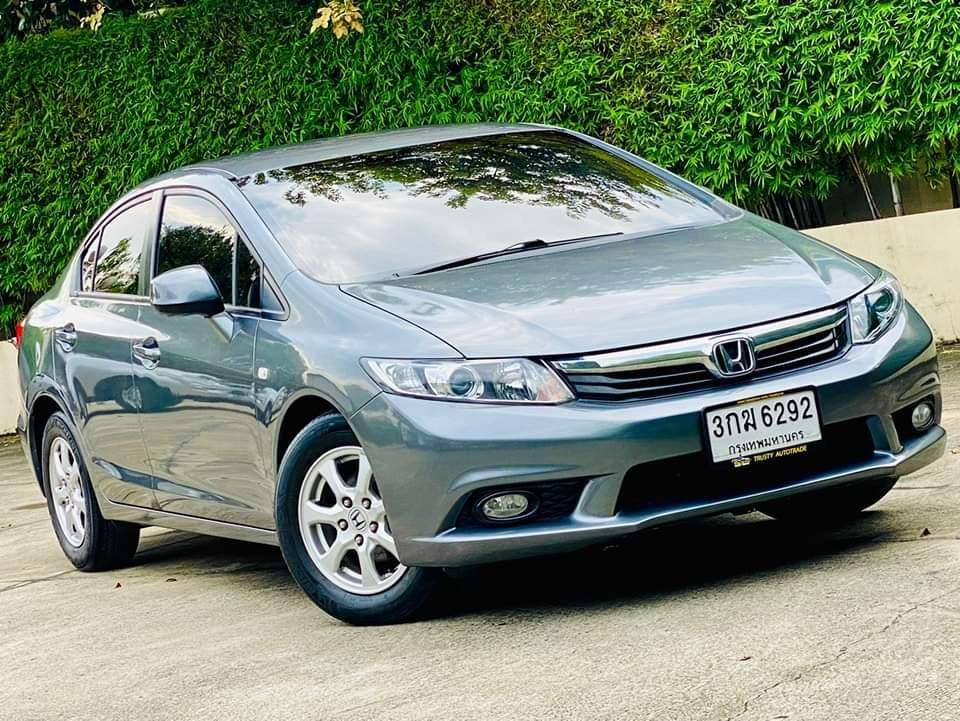license-plate: (694, 380, 826, 477)
